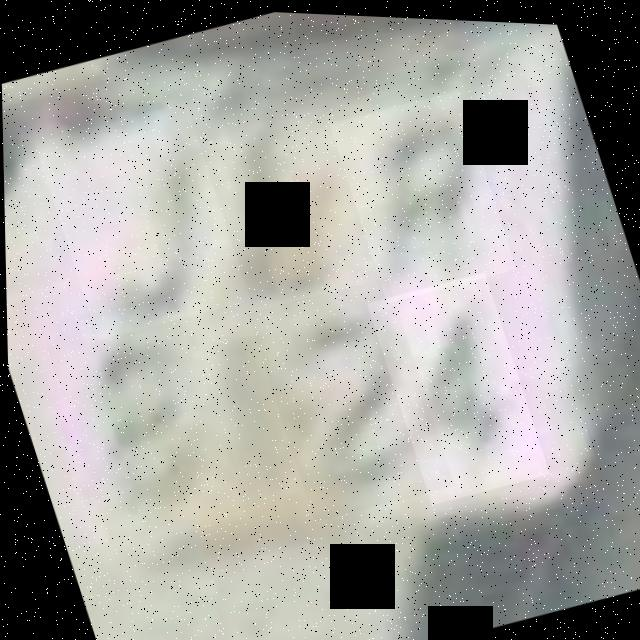2: (245, 268, 453, 524)
4: (365, 263, 548, 504)
9: (38, 283, 248, 548)
B: (328, 80, 515, 304)
J: (33, 95, 250, 345)
U: (154, 73, 381, 340)
